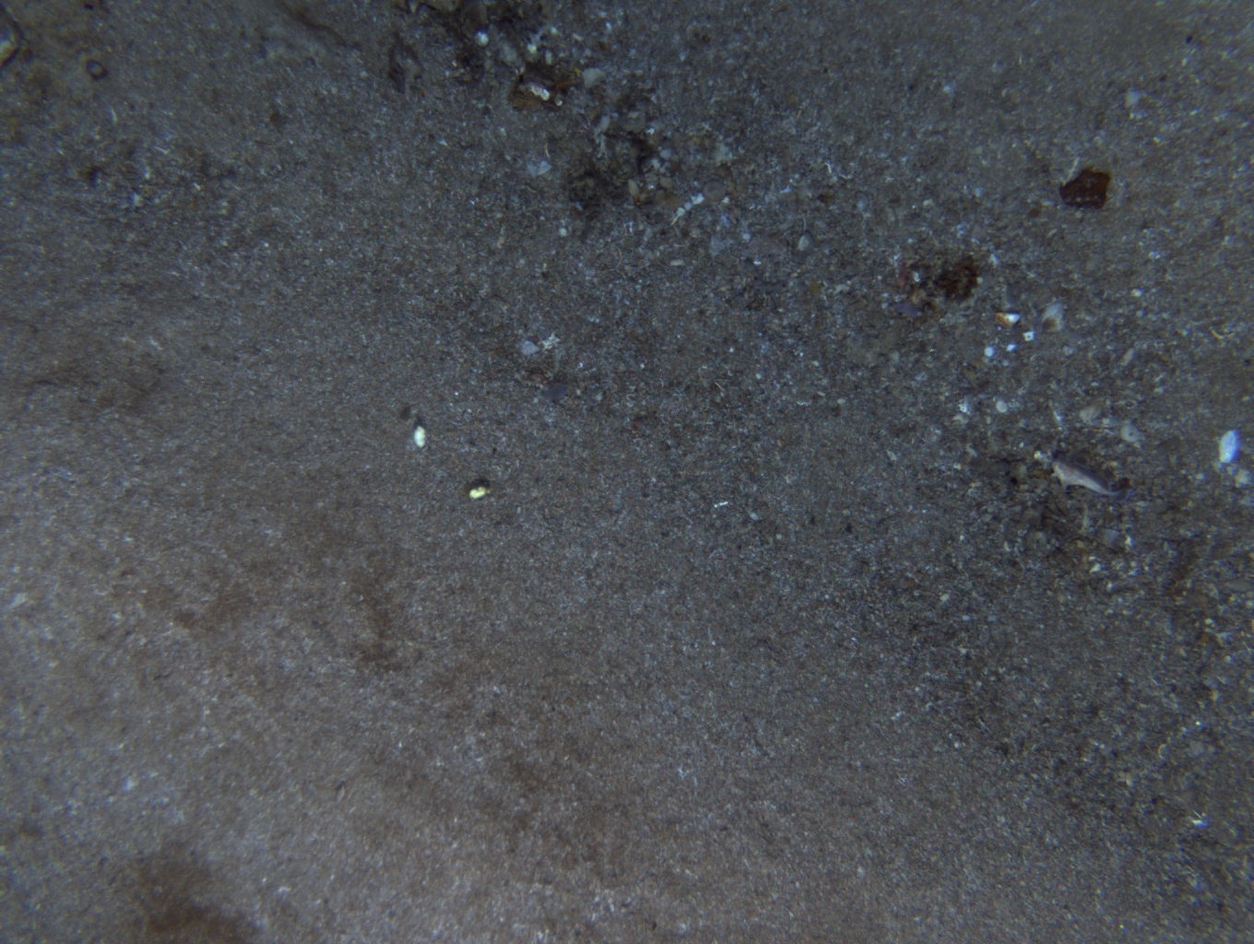Brachionichthyidae: (1049, 457, 1124, 499)
